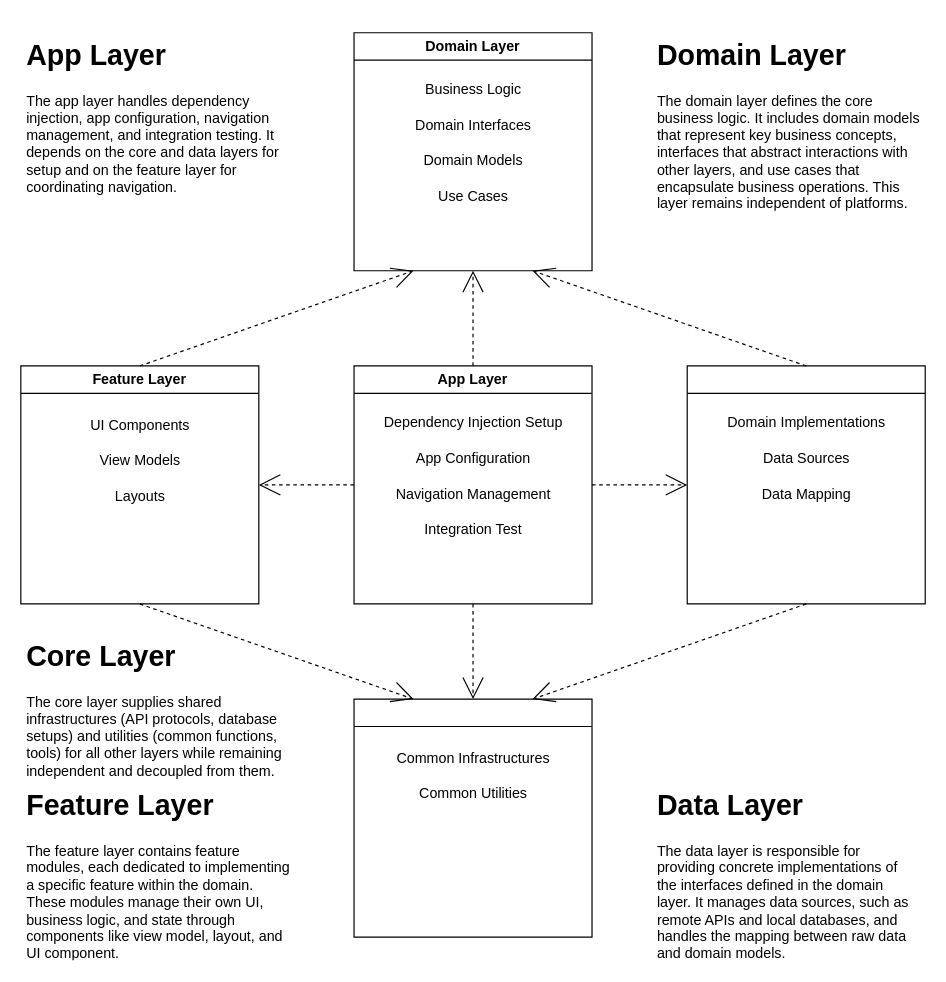
The diagram is 946 pixels wide and 982 high, and some of its shapes have lost their labels. Each missing label, with the box of its shape:
Core Layer: (353, 698, 592, 937)
Data Layer: (686, 365, 925, 604)
